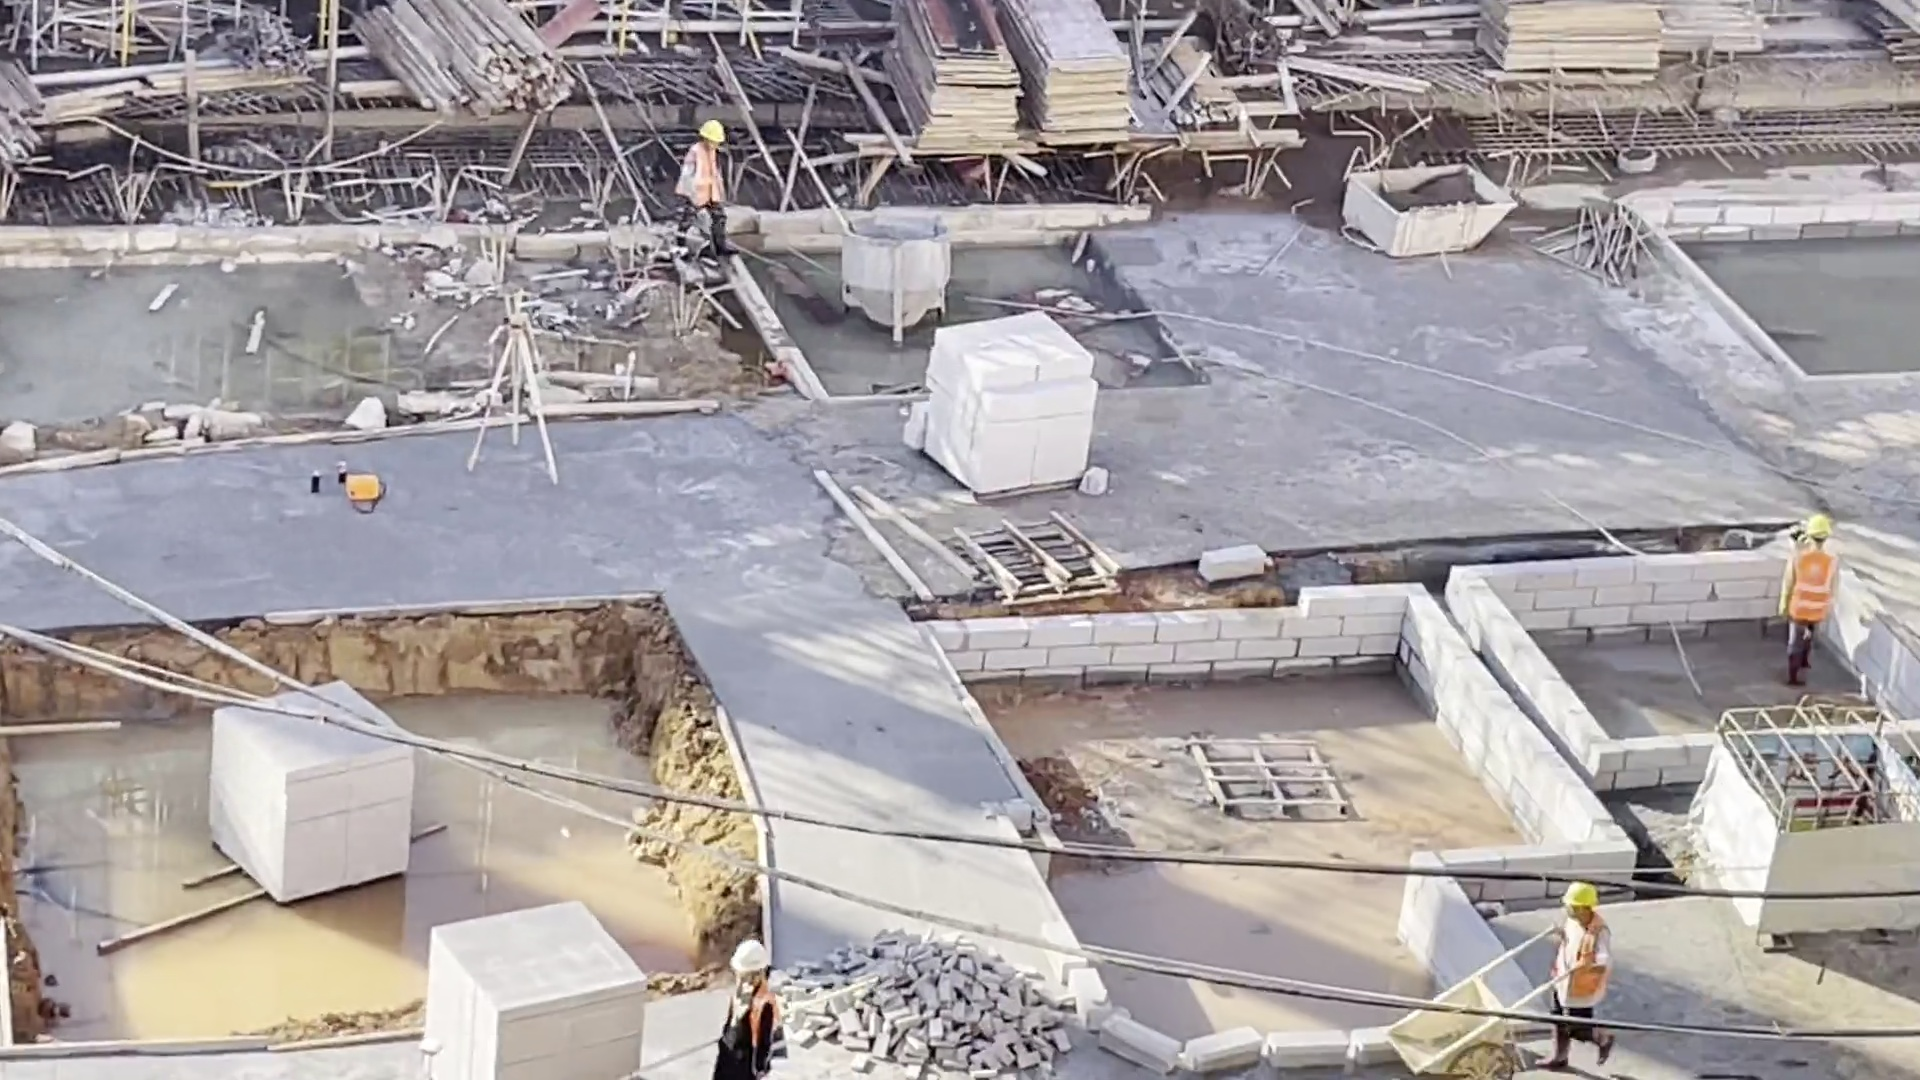board: (874, 4, 1028, 156), (1004, 5, 1143, 148), (1474, 2, 1667, 89)
brick: (417, 895, 644, 1080), (199, 738, 421, 911), (910, 308, 1094, 501)
handcart: (1377, 1015, 1519, 1080)
helmet: (728, 941, 776, 974), (1561, 879, 1602, 908), (698, 119, 727, 144), (1798, 517, 1832, 537)
hopper: (1330, 153, 1530, 264), (837, 211, 950, 341)
person: (1537, 879, 1629, 1068), (697, 935, 796, 1080), (660, 116, 747, 260), (1774, 516, 1838, 694)
vest: (1554, 910, 1612, 1002), (1788, 548, 1836, 622), (675, 143, 728, 205)
wood: (351, 5, 581, 115), (8, 63, 51, 187)
